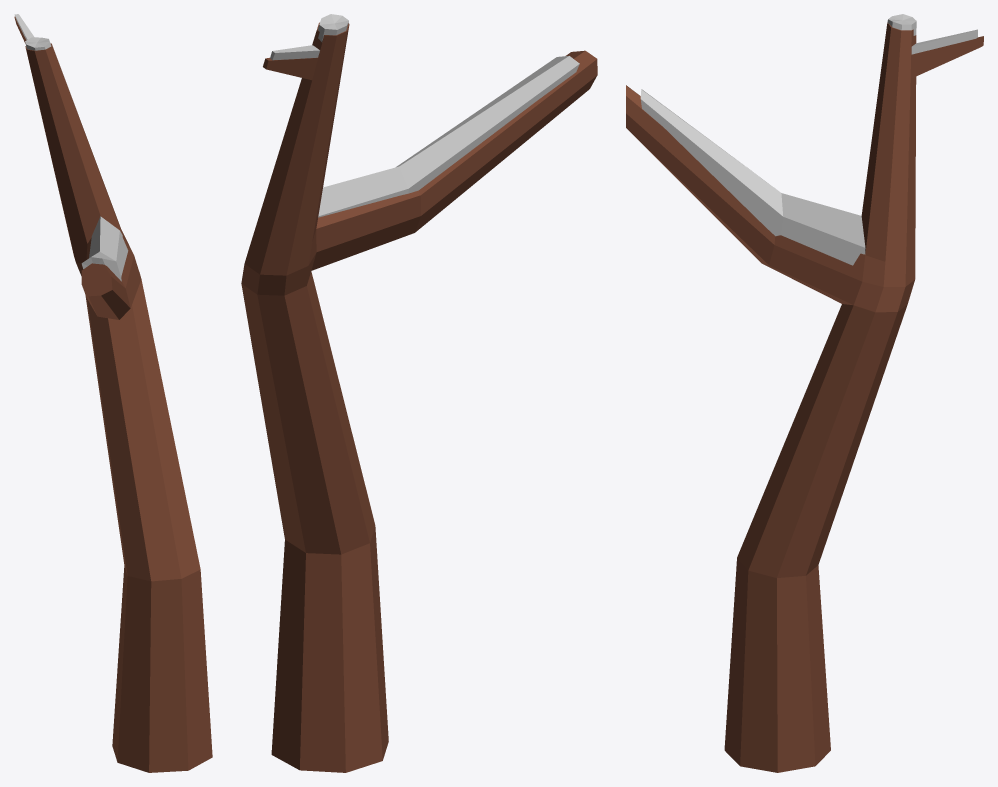
File: Tree_02_winter_vc.fbx
3 renders of one model, left to right at view 1: azimuth 30°, elevation 25°; view 2: azimuth 150°, elevation 25°; view 3: azimuth 270°, elevation 25°, orthographic. The views are drawn at different scales.
Parts seen in each view (by area): view 1: Tree_02_winter_vc; view 2: Tree_02_winter_vc; view 3: Tree_02_winter_vc.
Part boxes in pixels (left/top/right/bottom): Tree_02_winter_vc: left=14, top=14, right=212, bottom=772; Tree_02_winter_vc: left=241, top=14, right=597, bottom=772; Tree_02_winter_vc: left=626, top=14, right=983, bottom=772.
Bounding box in the file's own units: 40.76 × 133 × 61.61.
